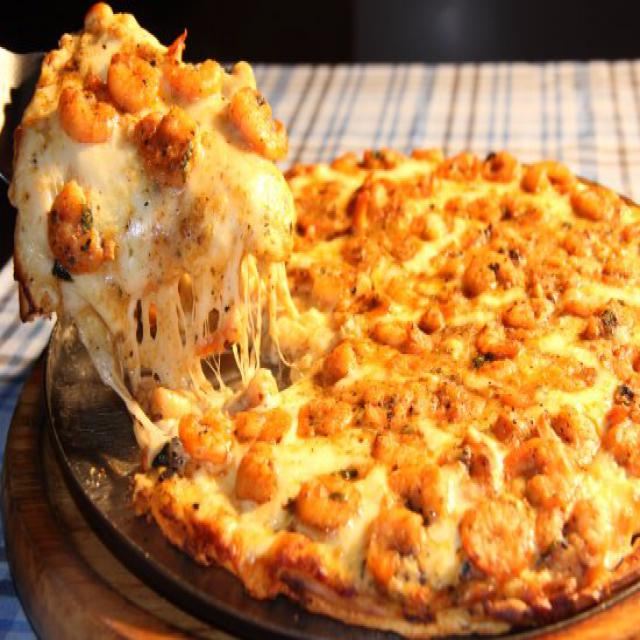camarao: (463, 488, 541, 589), (365, 494, 431, 603), (46, 182, 118, 276), (297, 464, 365, 544), (99, 44, 167, 114), (173, 412, 238, 473), (478, 318, 518, 364)
pizza: (63, 139, 639, 636), (26, 4, 284, 302)
